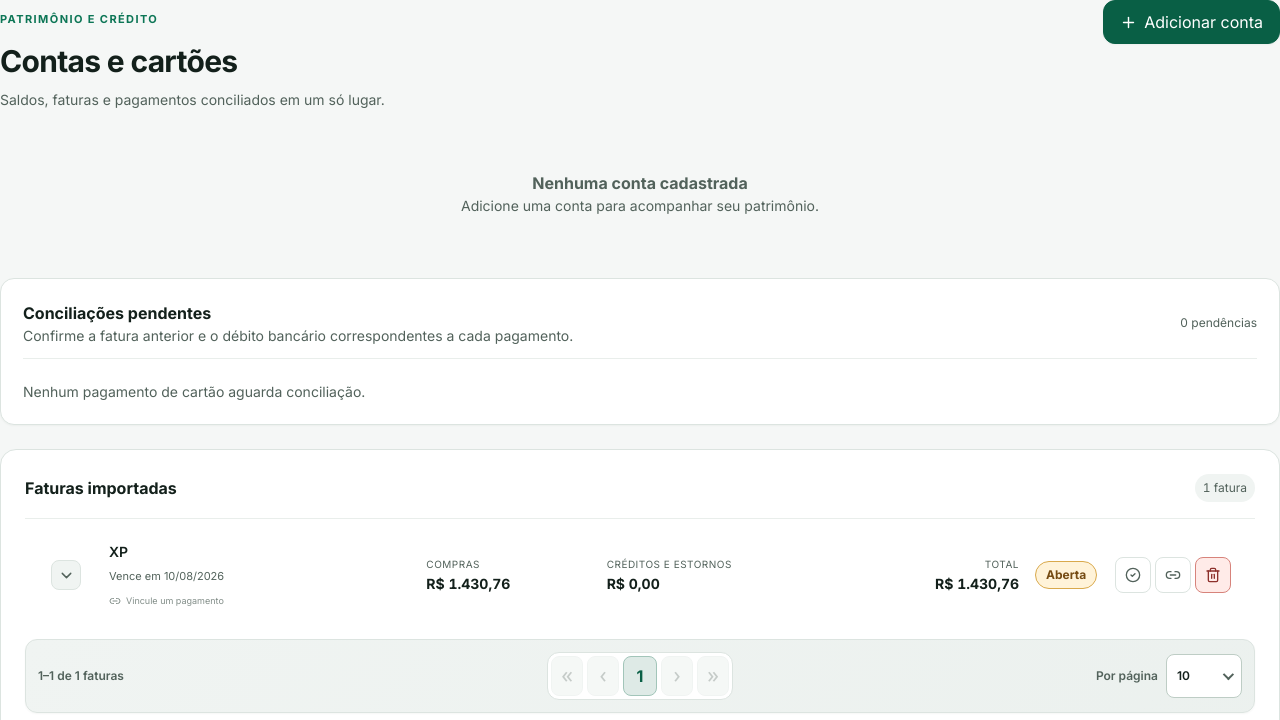
Test: AccountsCards invoice payment modal › usa um único diálogo largo e mantém o conteúdo dentro do modal
This screenshot has width=1280, height=720.
Click the button named "Vincular pagamento à fatura XP" at [1173, 574], box [1155,556,1191,592]
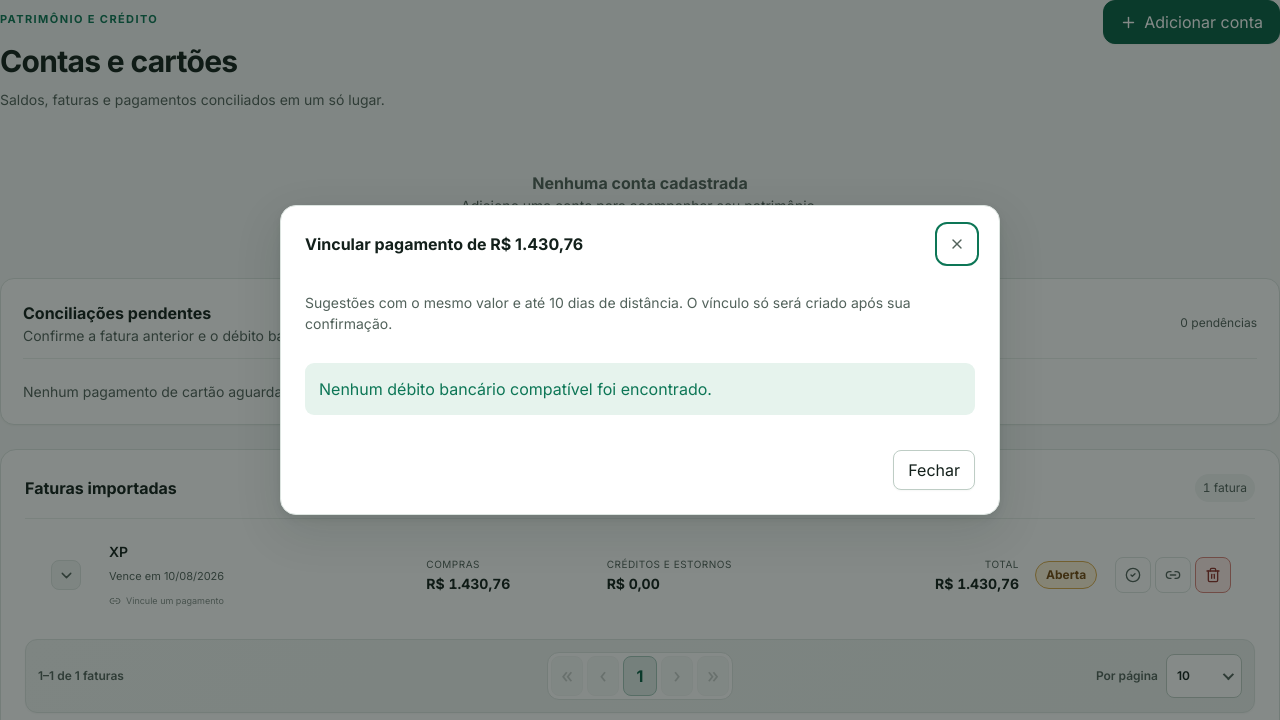
Expected: the element with class "modal-form" is shown, [305,292,975,490]
Expected: the dialog "Vincular pagamento de" shows "Nenhum débito bancário compatível foi encontrado.", [319,379,712,399]
